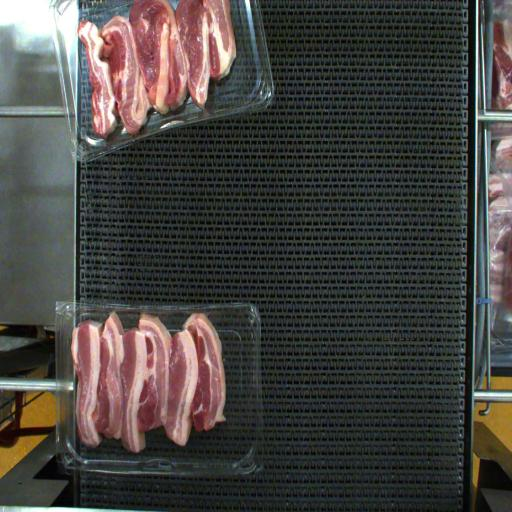packaging-error: (70, 300, 216, 338)
